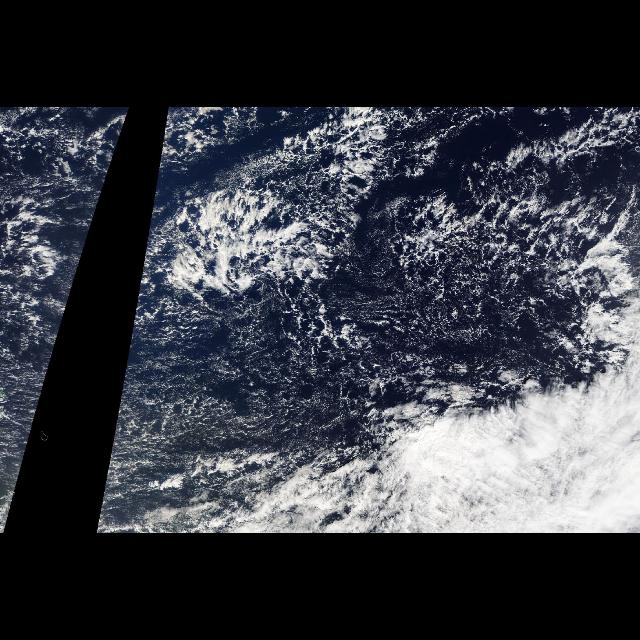Gravel: (167, 307, 446, 425)
